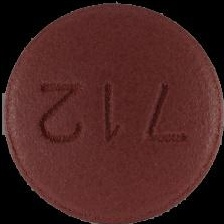47335-712: (0, 0, 224, 224)
